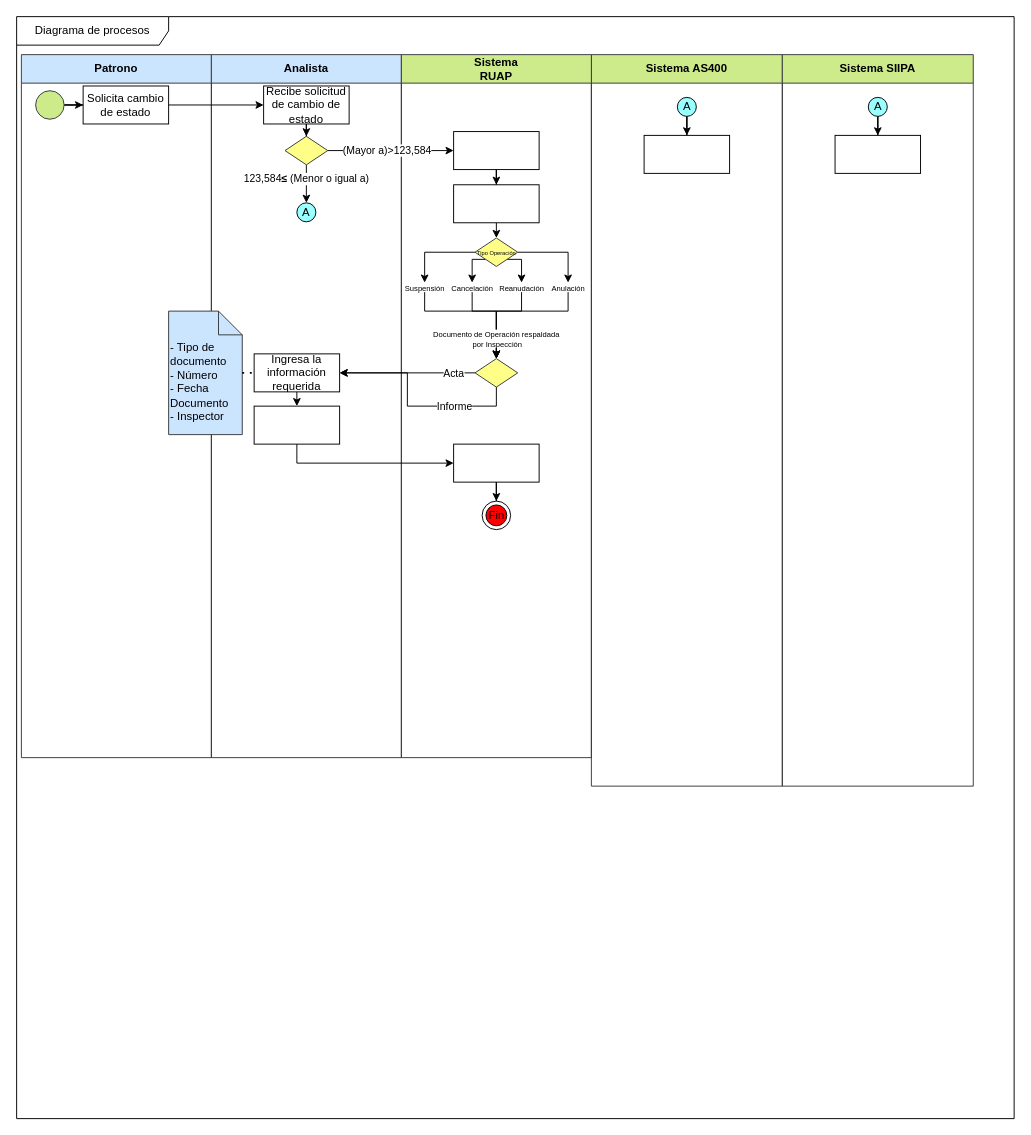
Some shapes in this 1031 by 1135 pixel diagram are drawn without their labels. The centre of each missing label's shape, as x and y in pixels:
Cancelan Reanudan Anulan: the point at 877,153
Graba y confirma los datos: the point at 296,424
Ingresa a Registro de Operaciones: the point at 496,150
Ingresa el CUP y selecciona el establecimiento: the point at 496,203
Inicio: the point at 49,104
Modifica el estado del establecimiento: the point at 496,462
No. Patronal: the point at 306,150
Suspenden: the point at 686,153
